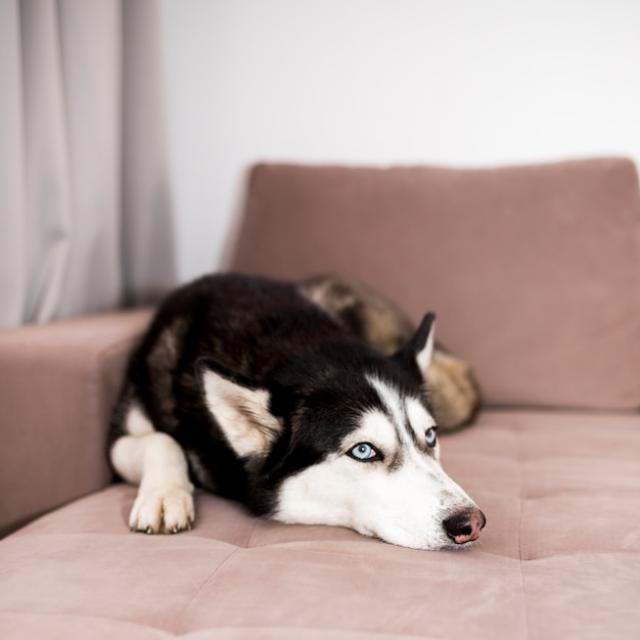Dog: (106, 267, 488, 553)
